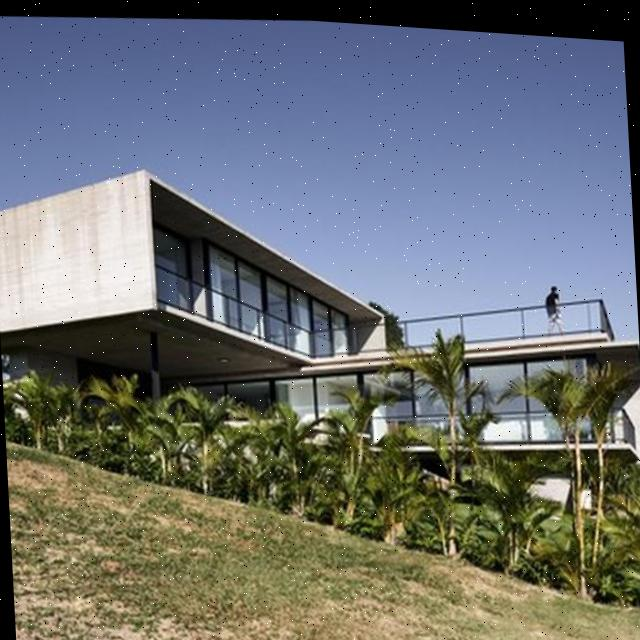building: (0, 135, 640, 497)
